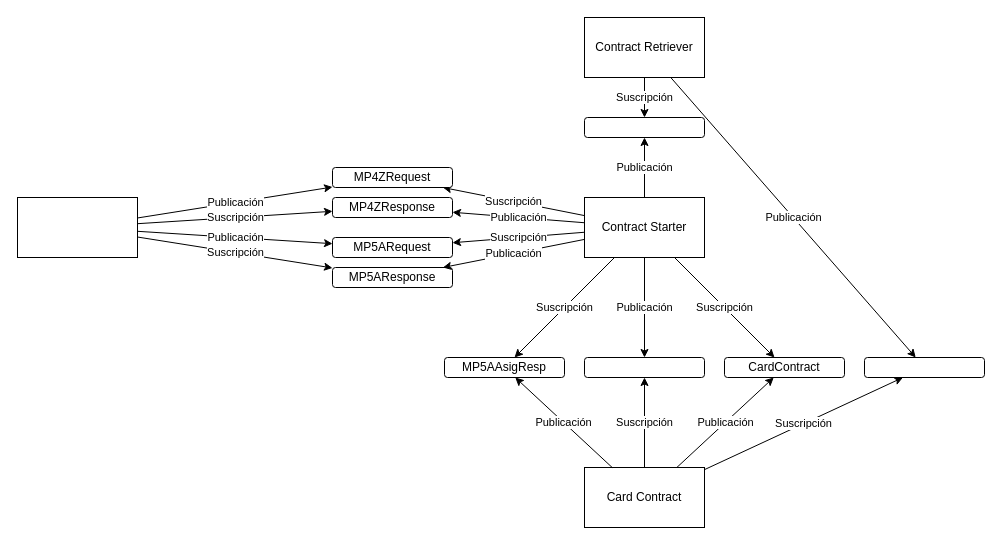
The diagram is 1002 pixels wide and 545 high, and some of its shapes have lost their labels. The centre of each missing label's shape, as x and y in pixels:
"ContractRetriever" belongs at point 924,367.
"ContractStarter" belongs at point 644,127.
"Launcher" belongs at point 77,227.
"MP5AAsigReq" belongs at point 644,367.
